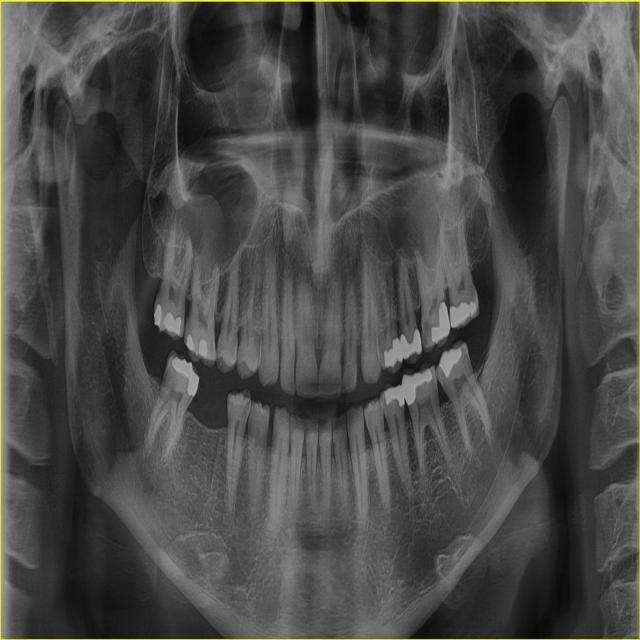NucleOSS Implant: (170, 352, 206, 397), (399, 367, 438, 407), (426, 300, 458, 347), (433, 341, 466, 378), (444, 297, 480, 328), (398, 328, 424, 359), (383, 336, 404, 369), (383, 383, 407, 410), (162, 312, 183, 334), (198, 337, 208, 360), (153, 305, 163, 327), (184, 333, 195, 352)
Sterngold Implant: (422, 319, 430, 346), (227, 397, 232, 408)
